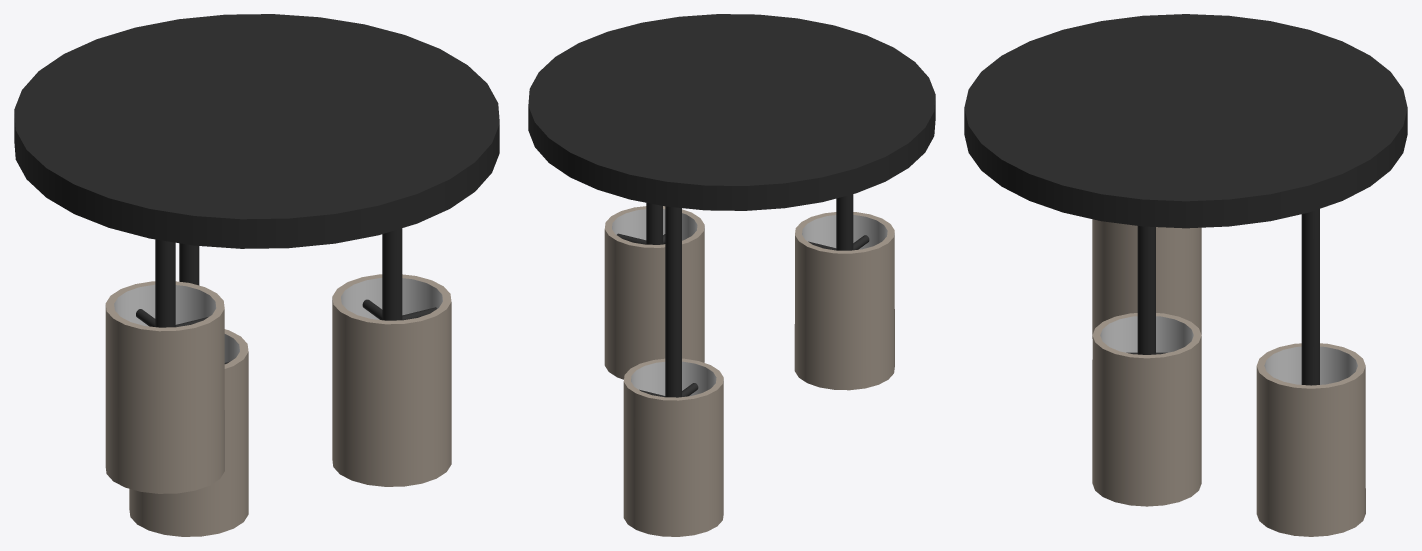
Rendered from Spot2_3.fbx.
The picture shows the model from 3 angles, left to right: view 1: azimuth 30°, elevation 25°; view 2: azimuth 150°, elevation 25°; view 3: azimuth 270°, elevation 25°; orthographic projection. The views are drawn at different scales.
Visible parts, largest first — view 1: pCylinder813, pPipe130, pPipe128, pPipe129, pCylinder811, pCylinder819, pCylinder816; view 2: pCylinder813, pPipe129, pPipe130, pPipe128, pCylinder816, pCylinder819, pCylinder811; view 3: pCylinder813, pPipe129, pPipe128, pPipe130, pCylinder816, pCylinder811.
Part boxes in pixels (box(x1,y1,x2,y2)): pCylinder813: box(14, 14, 499, 248); pPipe130: box(105, 281, 224, 493); pPipe128: box(332, 274, 451, 486); pPipe129: box(129, 329, 248, 536); pCylinder811: box(382, 228, 402, 320); pCylinder819: box(155, 239, 175, 327); pCylinder816: box(179, 243, 199, 285); pCylinder813: box(528, 14, 935, 210); pPipe129: box(623, 358, 723, 536); pPipe130: box(794, 212, 894, 390); pPipe128: box(604, 206, 704, 379); pCylinder816: box(665, 206, 681, 397); pCylinder819: box(836, 194, 853, 250); pCylinder811: box(646, 203, 662, 244); pCylinder813: box(964, 14, 1407, 228); pPipe129: box(1256, 343, 1365, 536); pPipe128: box(1092, 313, 1201, 506); pPipe130: box(1092, 219, 1201, 338); pCylinder816: box(1301, 209, 1319, 385); pCylinder811: box(1137, 226, 1155, 354).
Bounding box in the file's own units: 24.84 × 25.1 × 24.84.
